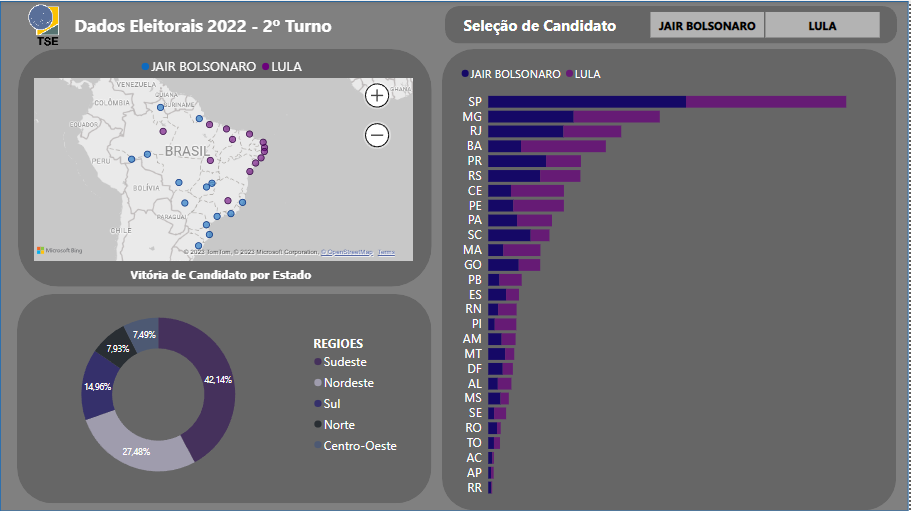

The page's visual inventory and layout, read from the dashboard file:
{"tool":"powerbi","page":{"name":"Página 1","canvas":[1280,720],"ordinal":0},"visuals":[{"type":"shape","box":[0,0,1280,719.4],"z":0},{"type":"shape","box":[623.3,68.3,640,650],"z":1000},{"type":"shape","box":[24.6,412.5,584.3,294.6],"z":2000},{"type":"shape","box":[25,68.3,583.3,335],"z":3000},{"type":"shape","box":[626.7,6.7,636.7,53.3],"z":4000},{"type":"barChart","fields":{"Category":["mapa2.SG_UF"],"Y":["mapa2.QT_VOTOS_NOMINAIS"],"Series":["mapa2.NM_URNA_CANDIDATO"]},"box":[643.3,80.2,636.7,626.9],"z":5000},{"type":"donutChart","fields":{"Category":["mapa2-C.REGIOES"],"Y":["mapa2-C.QT_VOTOS_NOMINAIS"]},"box":[0,403.3,573.3,303.3],"z":6000},{"type":"map","title":"Vitoria por estado de cada Candidato","fields":{"Category":["mapaPr.NOME_ESTADO"],"Series":["mapaPr.NM_CANDIDATO"],"Size":["mapaPr.QT_VOTOS_NOMINAIS"]},"box":[42.2,68.9,544.4,302.2],"z":7000},{"type":"slicer","fields":{"Values":["mapa2-C.NM_CANDIDATO"]},"box":[890.8,8.3,372.5,50],"z":8000},{"type":"textbox","box":[648.6,14.3,242.1,44.3],"z":9000},{"type":"image","box":[24.6,0,75.4,68.5],"z":10000},{"type":"textbox","box":[100,13,404,45],"z":11000},{"type":"textbox","box":[178.8,371.2,273.8,32.5],"z":12000}]}

Visuals, with their boxes in screenshot pixels (x1, y1, x2, y2), scaled from the page's 1280x720 canvas onto the 911x511 screenshot:
shape: locate(0, 0, 910, 510)
shape: locate(444, 48, 899, 510)
shape: locate(18, 293, 433, 502)
shape: locate(18, 48, 433, 286)
shape: locate(446, 5, 899, 43)
barChart - mapa2.SG_UF x mapa2.QT_VOTOS_NOMINAIS: locate(458, 57, 910, 502)
donutChart - mapa2-C.REGIOES x mapa2-C.QT_VOTOS_NOMINAIS: locate(0, 286, 408, 501)
"Vitoria por estado de cada Candidato" map: locate(30, 49, 417, 263)
slicer - mapa2-C.NM_CANDIDATO: locate(634, 6, 899, 41)
textbox: locate(462, 10, 634, 42)
image: locate(18, 0, 71, 49)
textbox: locate(71, 9, 359, 41)
textbox: locate(127, 263, 322, 287)
